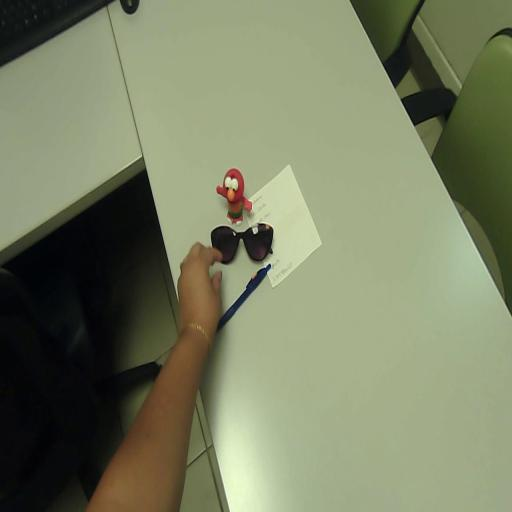pen: (217, 264, 270, 330)
